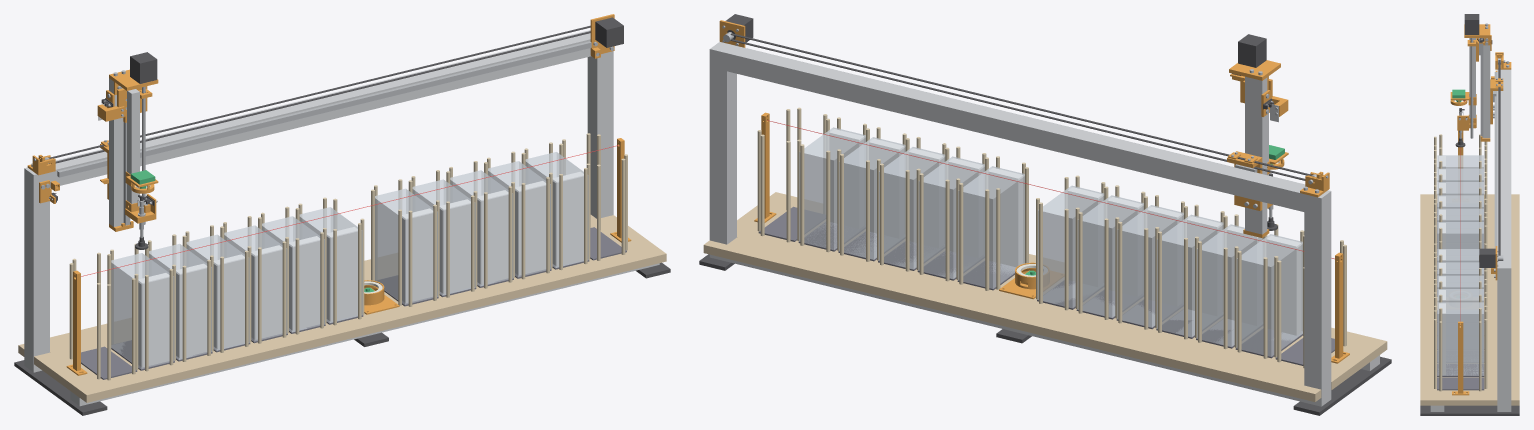
Rendered from slabrail_home.glb.
3 renders of one model, left to right at view 1: azimuth 30°, elevation 25°; view 2: azimuth 150°, elevation 25°; view 3: azimuth 270°, elevation 25°, orthographic. The views are drawn at different scales.
Parts seen in each view (by area): view 1: bed_plywood, x_beam, stack_7, stack_1, upright_L, stack_8, stack_3, stack_6, stack_11, stack_9, stack_4, stack_5 (+29 smaller); view 2: bed_plywood, x_beam, stack_7, stack_1, upright_L, upright_R, stack_5, stack_4, stack_8, stack_11, stack_6, stack_9 (+36 smaller); view 3: bed_plywood, stack_11, x_beam, stack_10, upright_R, stack_6, stack_5, stack_2, stack_9, stack_4, stack_1, stack_8 (+31 smaller).
Part boxes in pixels (x1=…): bed_plywood: x1=18, y1=215, x2=666, y2=402; x_beam: x1=24, y1=30, x2=590, y2=191; stack_7: x1=375, y1=188, x2=437, y2=304; stack_1: x1=111, y1=253, x2=174, y2=368; upright_L: x1=24, y1=185, x2=49, y2=363; stack_8: x1=412, y1=179, x2=475, y2=295; stack_3: x1=186, y1=234, x2=249, y2=350; stack_6: x1=299, y1=207, x2=362, y2=322; stack_11: x1=525, y1=152, x2=588, y2=267; stack_9: x1=450, y1=170, x2=513, y2=286; stack_4: x1=224, y1=225, x2=287, y2=341; stack_5: x1=262, y1=216, x2=324, y2=332; bed_plywood: x1=703, y1=192, x2=1387, y2=401; x_beam: x1=709, y1=42, x2=1331, y2=216; stack_7: x1=958, y1=166, x2=1024, y2=288; stack_1: x1=1236, y1=234, x2=1302, y2=356; upright_L: x1=1304, y1=209, x2=1331, y2=397; upright_R: x1=709, y1=67, x2=736, y2=244; stack_5: x1=1077, y1=195, x2=1143, y2=317; stack_4: x1=1117, y1=205, x2=1183, y2=327; stack_8: x1=918, y1=156, x2=984, y2=278; stack_11: x1=799, y1=127, x2=865, y2=249; stack_6: x1=1038, y1=185, x2=1104, y2=307; stack_9: x1=879, y1=147, x2=945, y2=269; bed_plywood: x1=1420, y1=194, x2=1519, y2=405; stack_11: x1=1437, y1=302, x2=1483, y2=375; x_beam: x1=1497, y1=69, x2=1511, y2=280; stack_10: x1=1437, y1=289, x2=1483, y2=360; upright_R: x1=1497, y1=280, x2=1511, y2=405; stack_6: x1=1437, y1=222, x2=1483, y2=261; stack_5: x1=1437, y1=208, x2=1483, y2=248; stack_2: x1=1437, y1=168, x2=1483, y2=194; stack_9: x1=1437, y1=275, x2=1483, y2=301; stack_4: x1=1437, y1=195, x2=1483, y2=221; stack_1: x1=1437, y1=155, x2=1483, y2=181; stack_8: x1=1437, y1=262, x2=1483, y2=288.
Size of the model in its own units: 1.44 by 0.72 by 0.2895.
